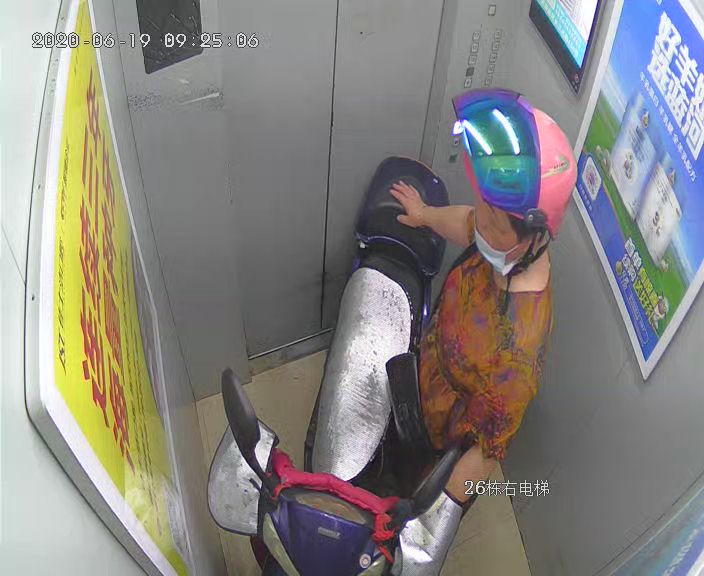Electric-bicycle: (222, 155, 457, 576)
